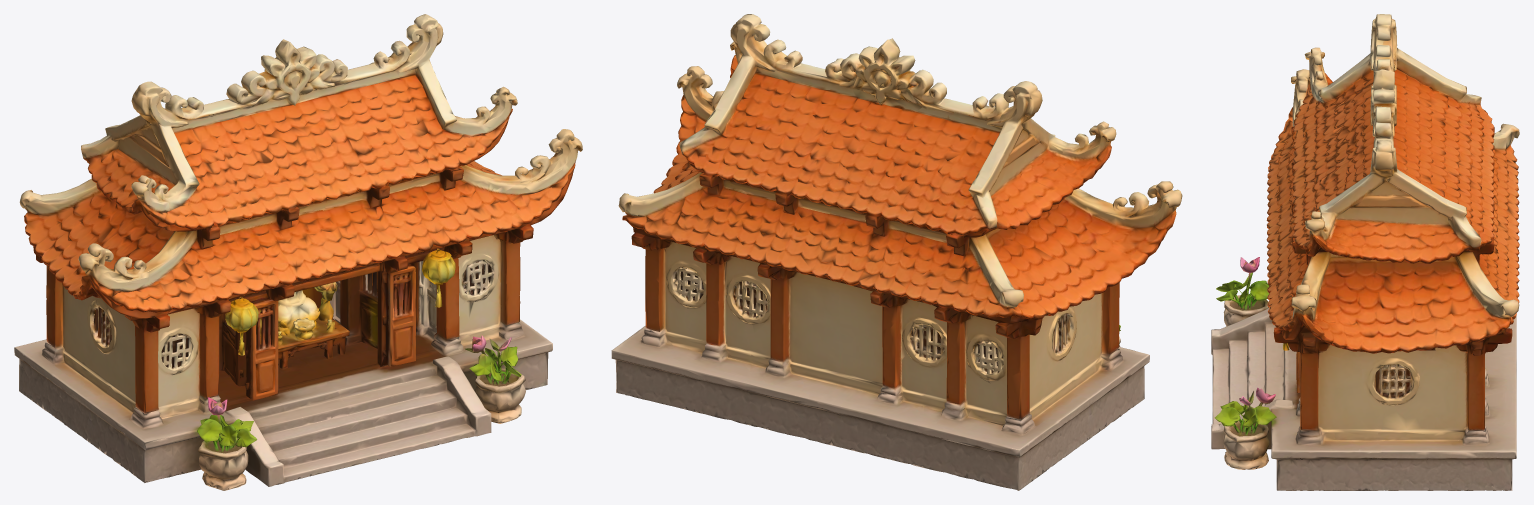
Rendered from temple.glb.
The picture shows the model from 3 angles, left to right: view 1: azimuth 30°, elevation 25°; view 2: azimuth 150°, elevation 25°; view 3: azimuth 270°, elevation 25°; orthographic projection. The views are drawn at different scales.
Visible parts, largest first — view 1: tripo_node_89c2f29d-bb84-4108-a6ae-b33f5f57dde1; view 2: tripo_node_89c2f29d-bb84-4108-a6ae-b33f5f57dde1; view 3: tripo_node_89c2f29d-bb84-4108-a6ae-b33f5f57dde1.
Boxes of the visible parts, x1,y1,x2,y2 form: tripo_node_89c2f29d-bb84-4108-a6ae-b33f5f57dde1: (14,14,582,490); tripo_node_89c2f29d-bb84-4108-a6ae-b33f5f57dde1: (611,14,1182,490); tripo_node_89c2f29d-bb84-4108-a6ae-b33f5f57dde1: (1211,14,1519,490).
Size of the model in its own units: 0.9783 by 0.6576 by 0.5582.
Materials: 1 (1 with a texture image).
